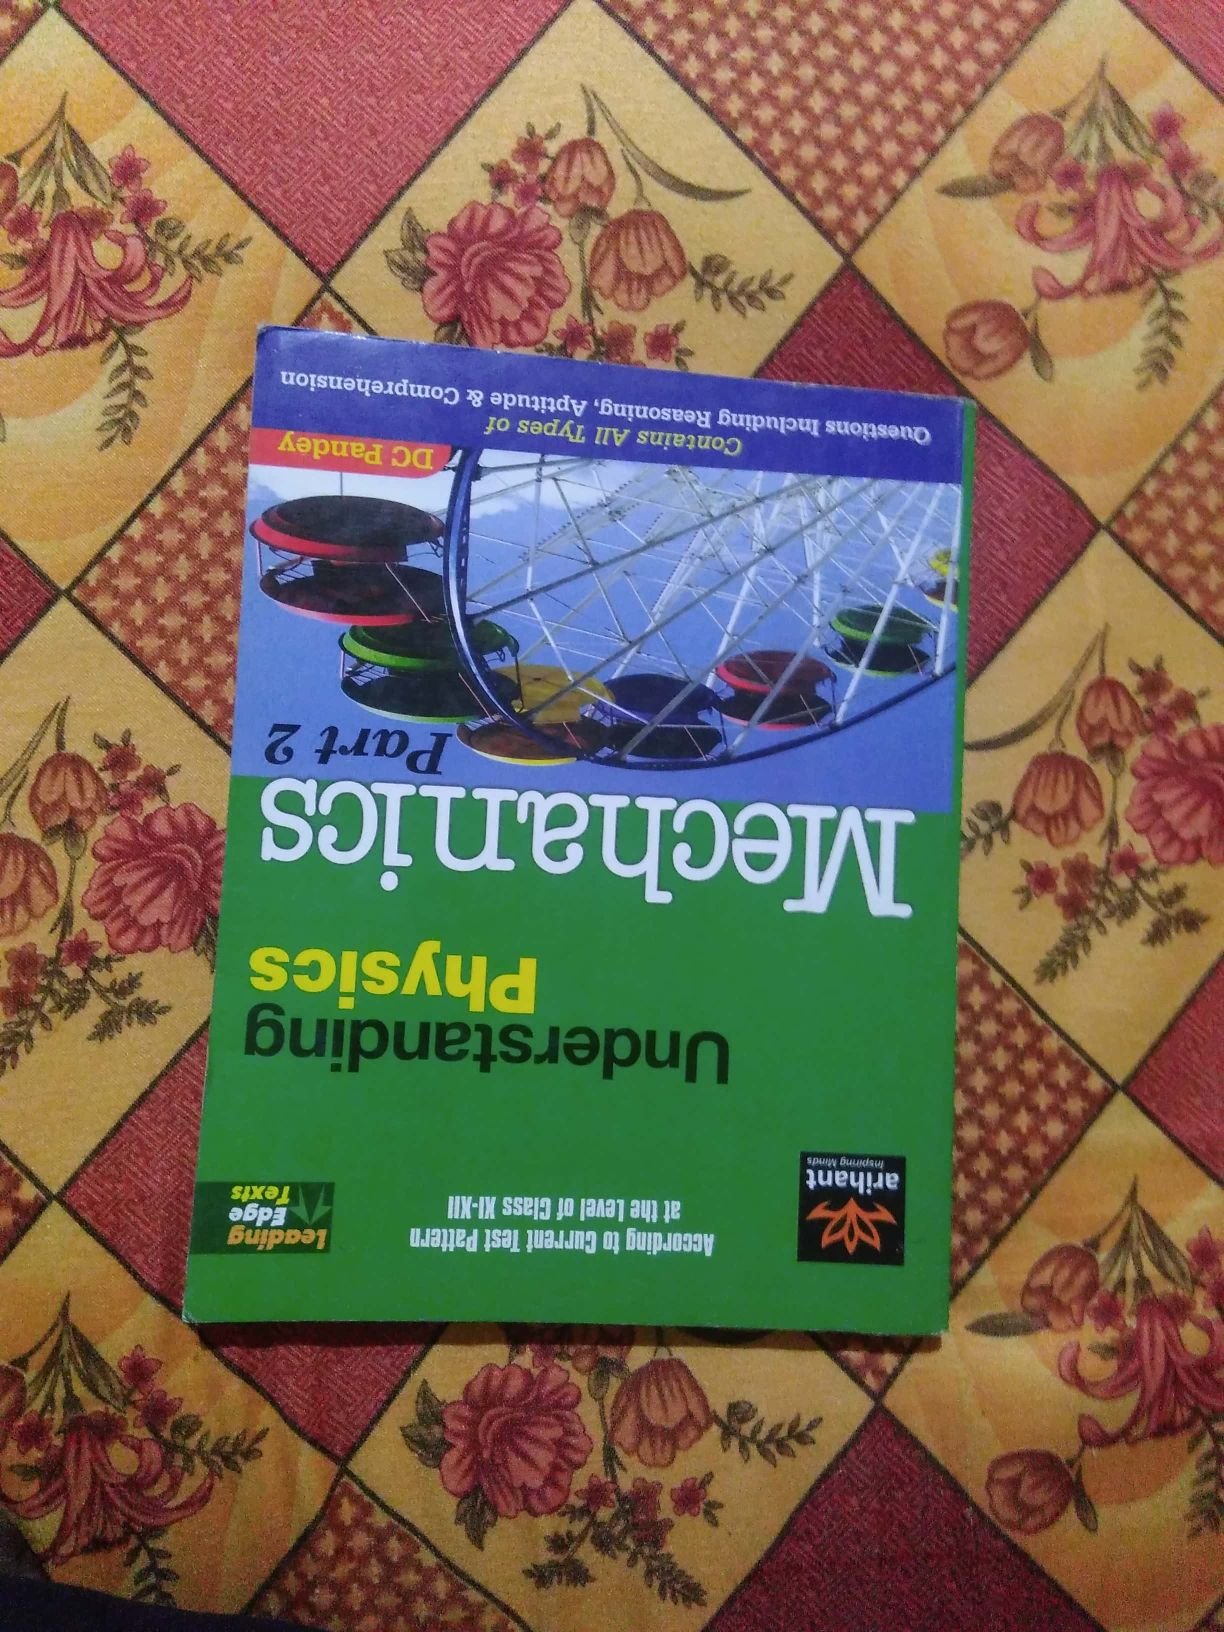mechanics: (202, 305, 987, 1380)
